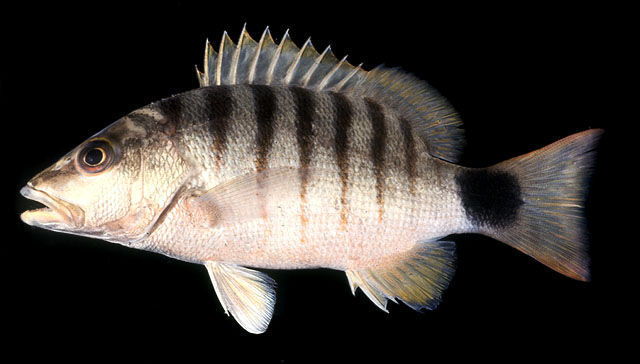fish: (18, 22, 602, 335)
